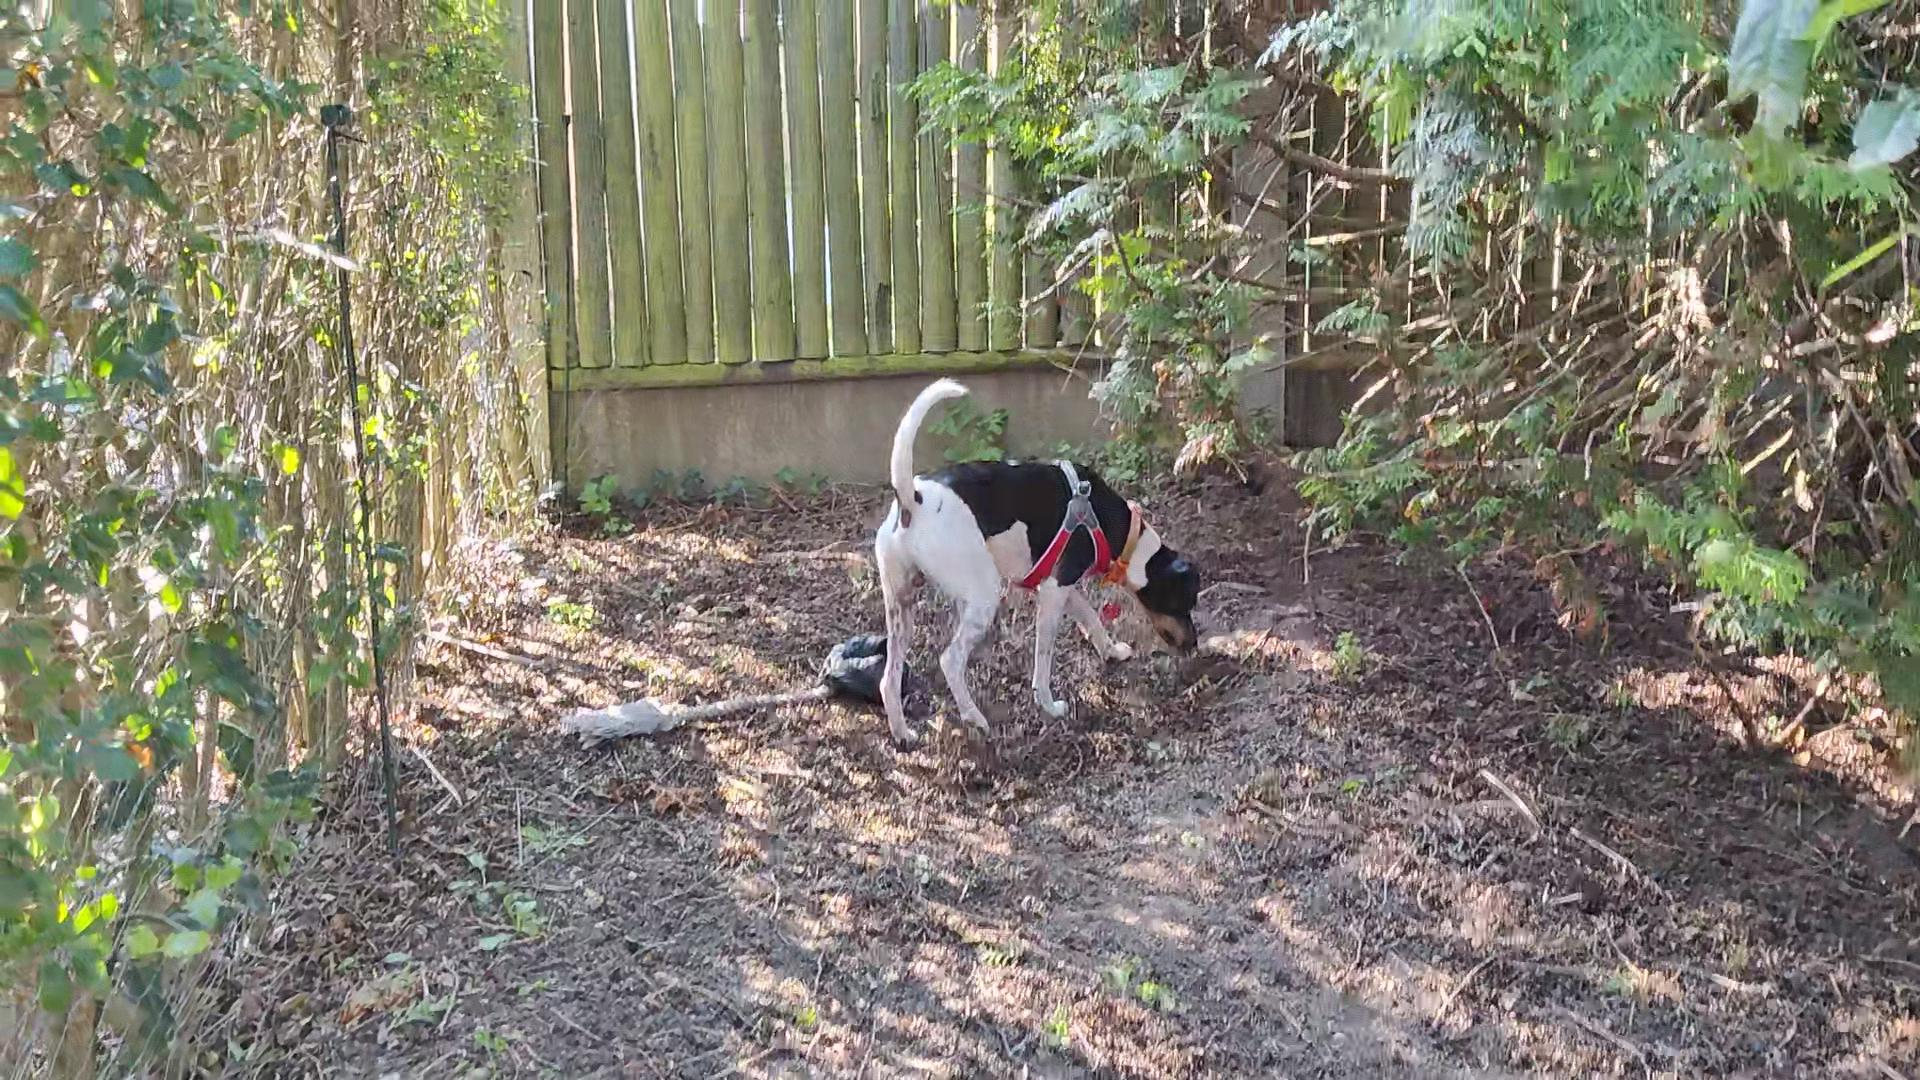Dog: (855, 371, 1224, 752)
